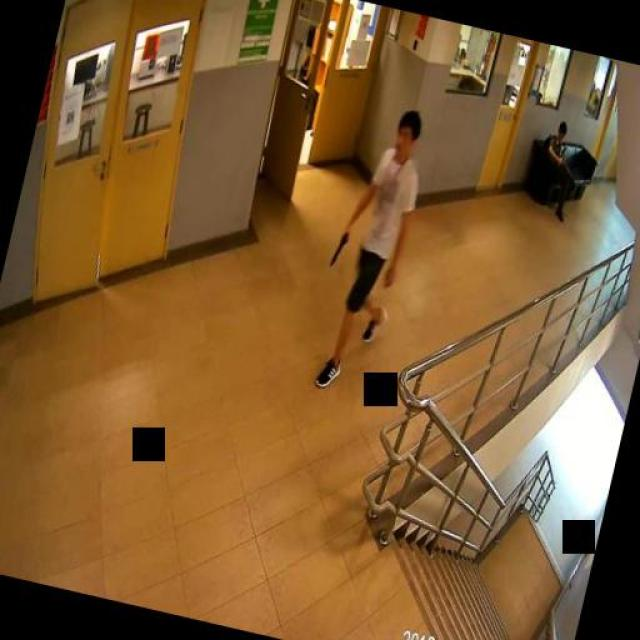gun: (324, 226, 354, 272)
